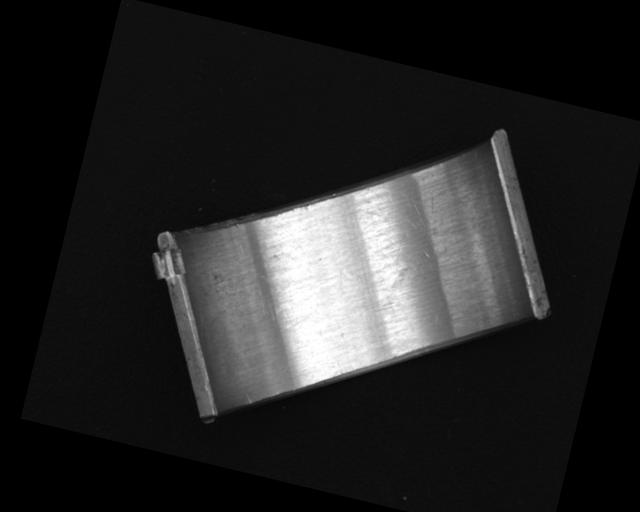nick: (241, 390, 253, 404)
